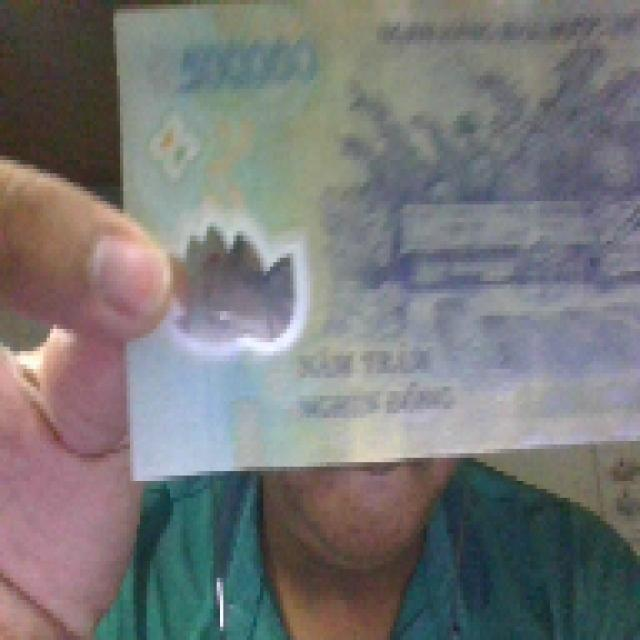500 000 VND: (106, 0, 636, 480)
